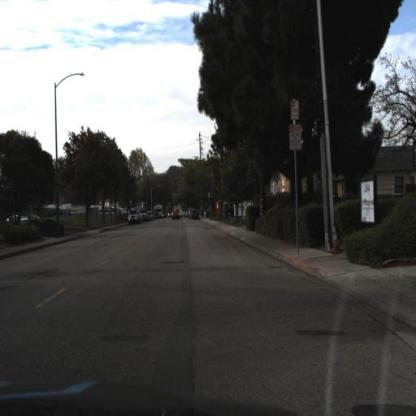car: (4, 207, 34, 231), (23, 210, 43, 229), (126, 208, 142, 229), (170, 206, 183, 224)
